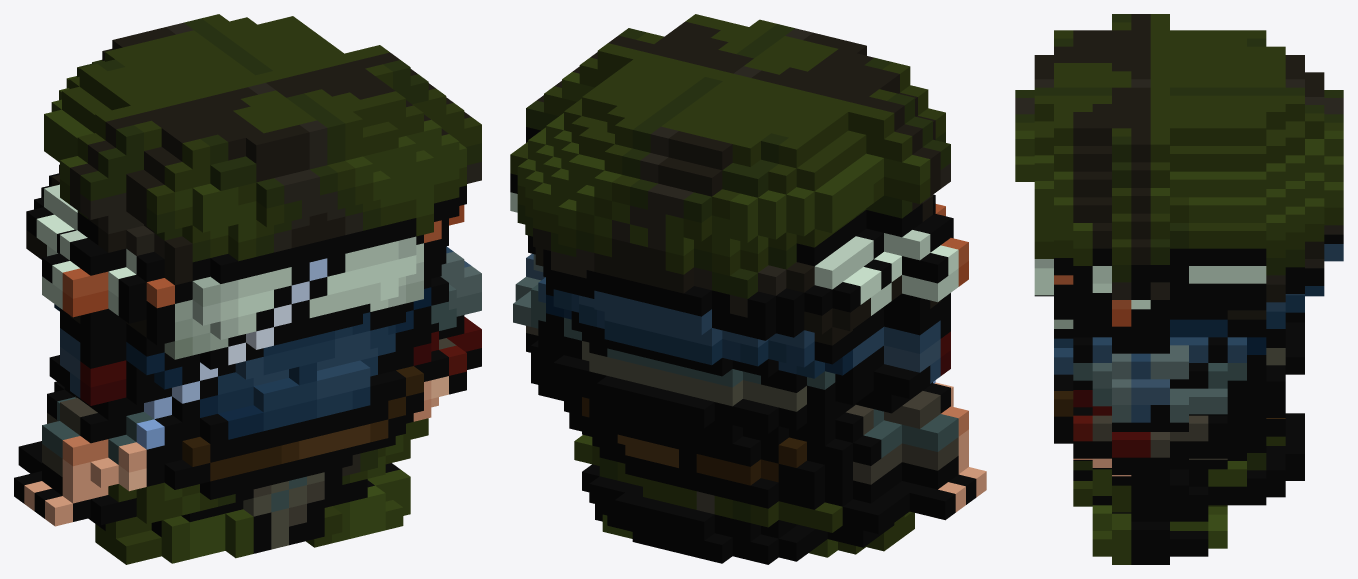
File: Icon_714_01.obj
3 views of the same model, side by side, from view 1: azimuth 30°, elevation 25°; view 2: azimuth 150°, elevation 25°; view 3: azimuth 270°, elevation 25° (orthographic). The views are drawn at different scales.
Size of the model in its own units: 2.4 by 2.4 by 1.7.
Materials: 1 (1 with a texture image).
